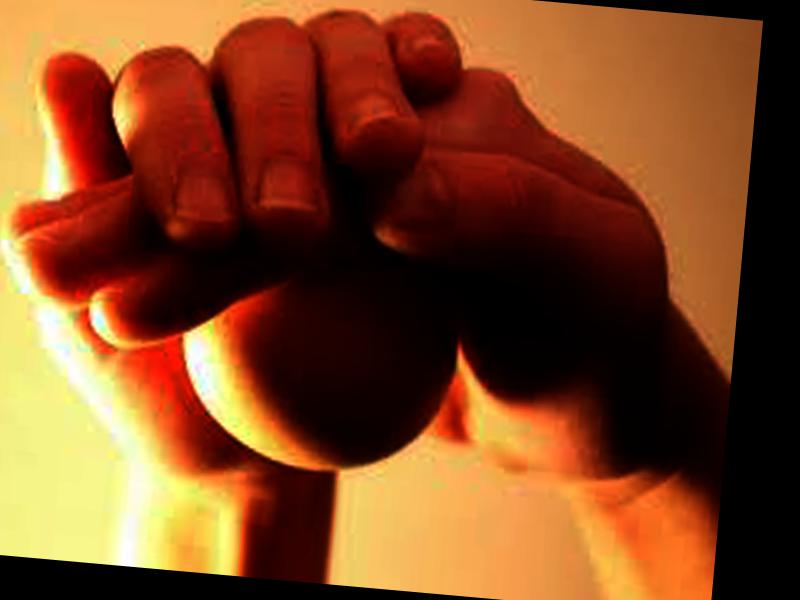Eggs: (172, 249, 466, 482)
